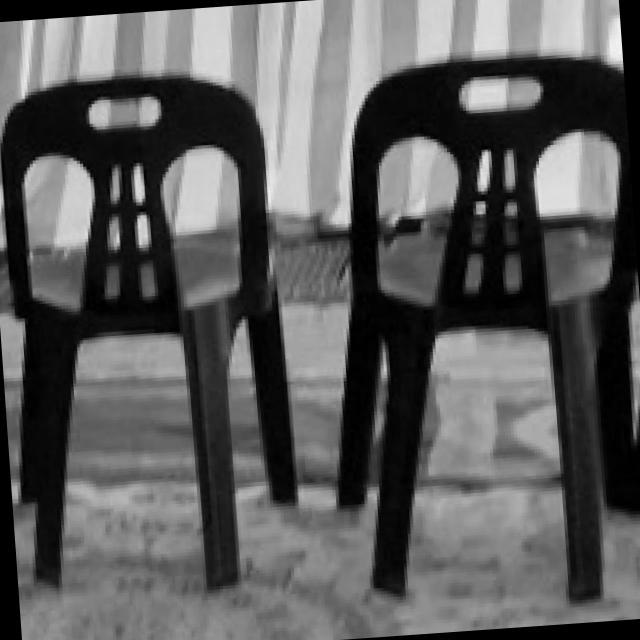chair: (311, 44, 640, 632), (0, 61, 309, 631)
